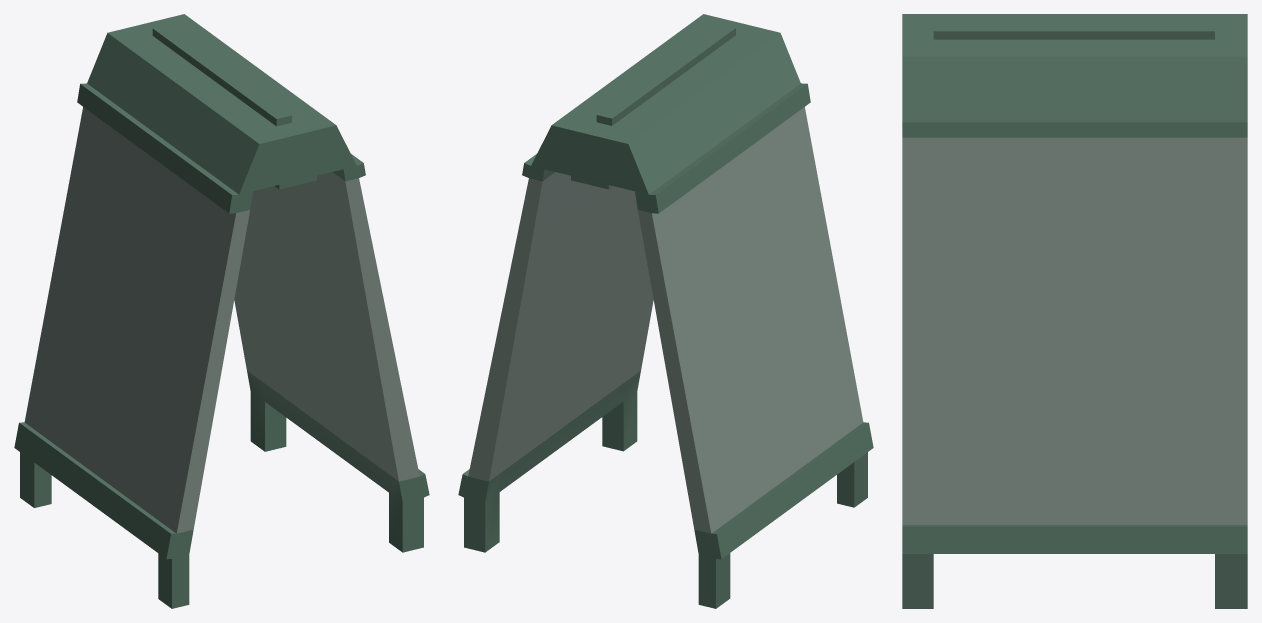
File: AdSign.fbx
3 renders of one model, left to right at view 1: azimuth 30°, elevation 25°; view 2: azimuth 150°, elevation 25°; view 3: azimuth 270°, elevation 25°, orthographic. The views are drawn at different scales.
Parts seen in each view (by area): view 1: pCube1; view 2: pCube1; view 3: pCube1.
Part boxes in pixels (bbox=[...]): pCube1: bbox=[14, 14, 429, 608]; pCube1: bbox=[458, 14, 873, 608]; pCube1: bbox=[902, 14, 1247, 608].
Bounding box in the file's own units: 3.23 × 5.28 × 3.23.
